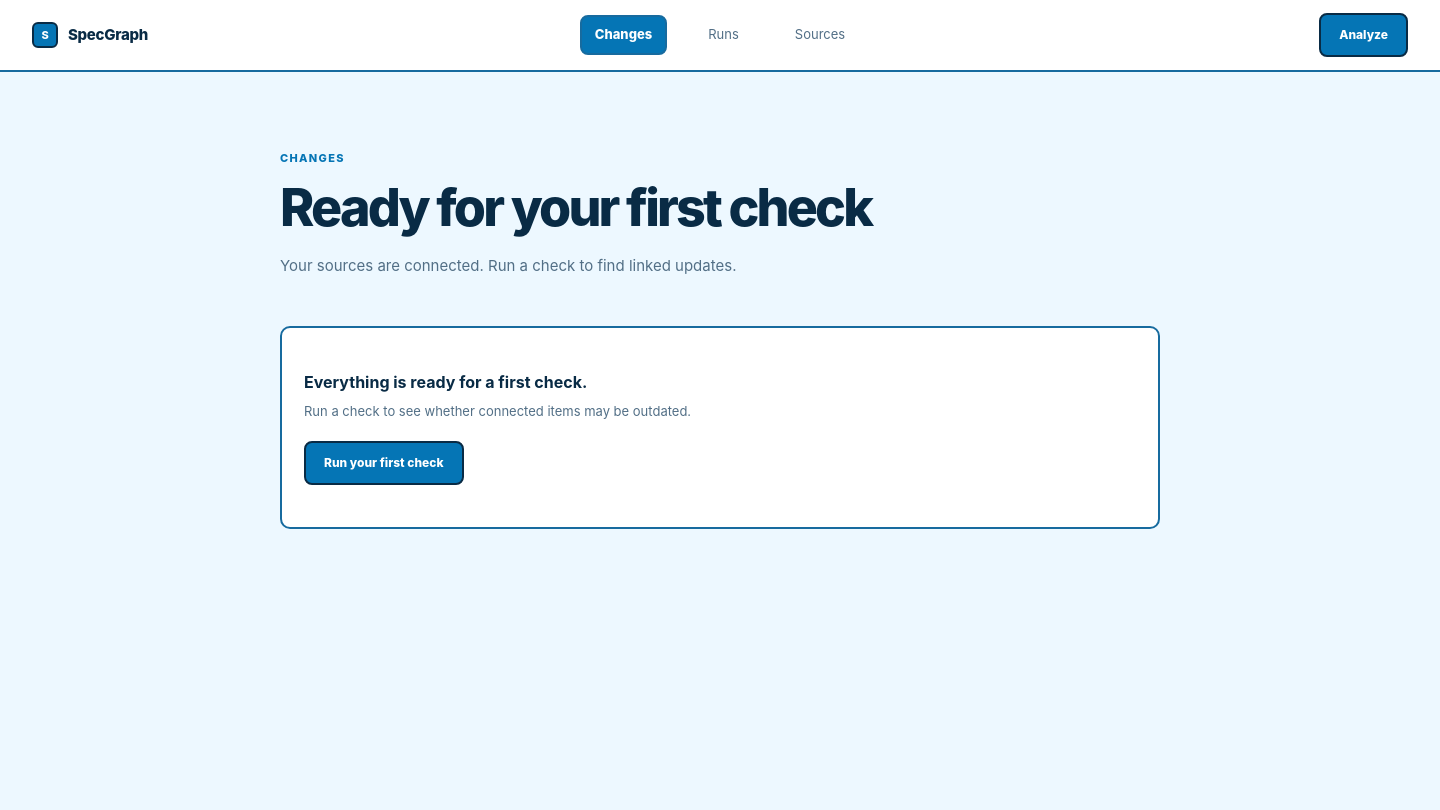
SpecGraphApp › offers the first check only after a source is ready
The image size is (1440, 810).
Expected: the heading "Ready for your first check" is shown, x1=280 y1=176 x2=871 y2=238
Click the button "Run your first check". click: {"x": 384, "y": 463}
box: x1=304 y1=441 x2=464 y2=485
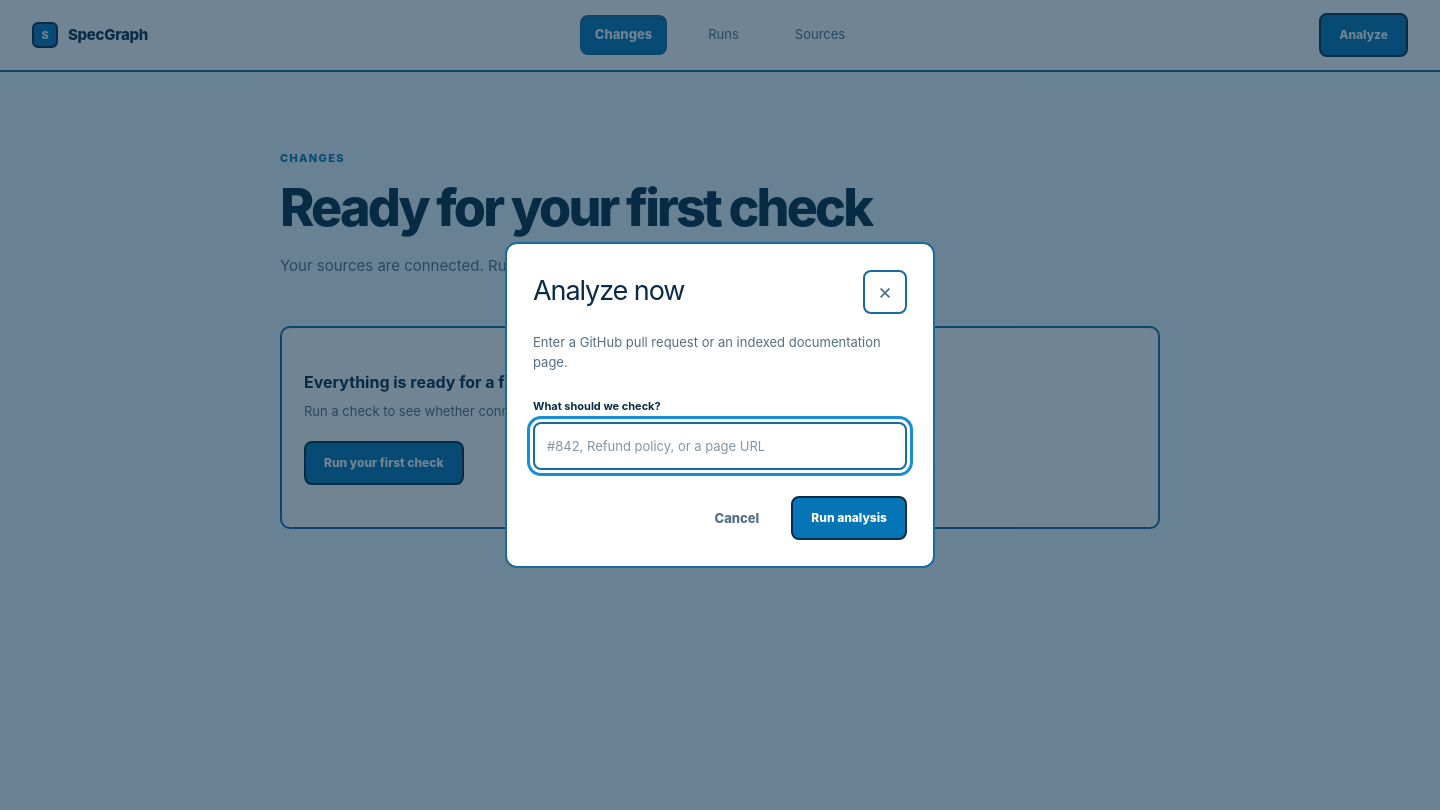
Result: the dialog "Analyze now" is shown at x1=505 y1=242 x2=935 y2=568
